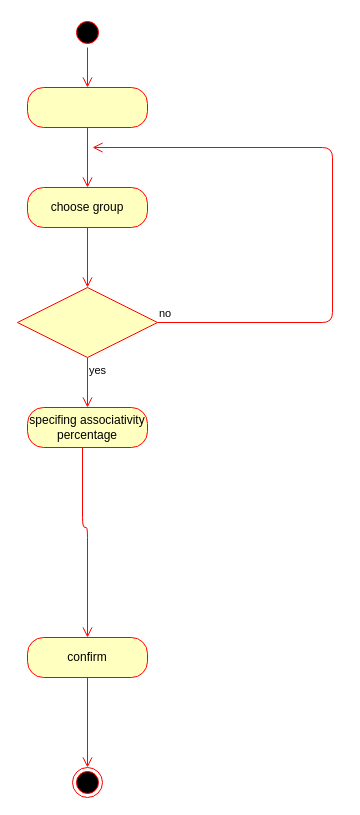
The diagram is 360 pixels wide and 815 high, and some of its shapes have lost their labels. The shapes that lost their labels are listed below. From the top down, each one's box as (x1, y1, x2, y2) in pixels, then its label:
(26, 86, 148, 128): taps add new debt botton
(16, 286, 158, 358): group exists?
